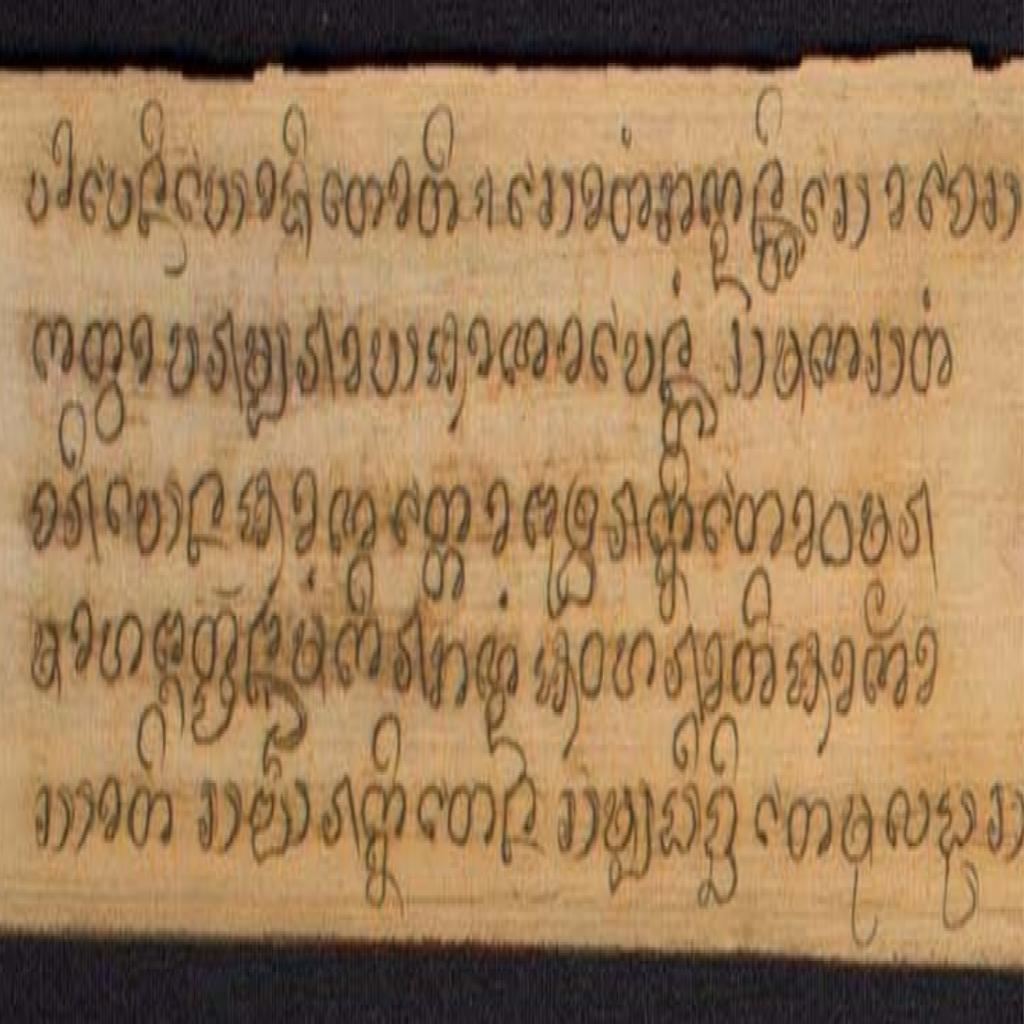LN013: (659, 775, 700, 865)
LN017: (807, 315, 864, 400), (498, 311, 552, 396)
